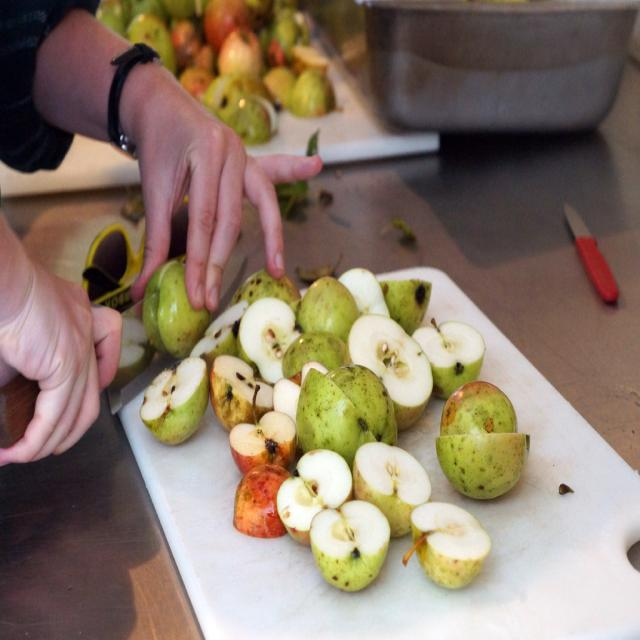Healty Apple: (111, 256, 532, 595), (92, 0, 333, 147), (344, 308, 434, 426)
